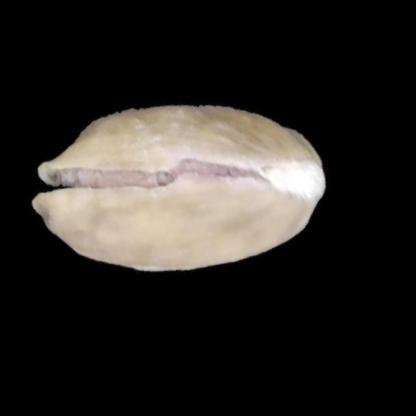pistachio: (34, 99, 325, 278)
